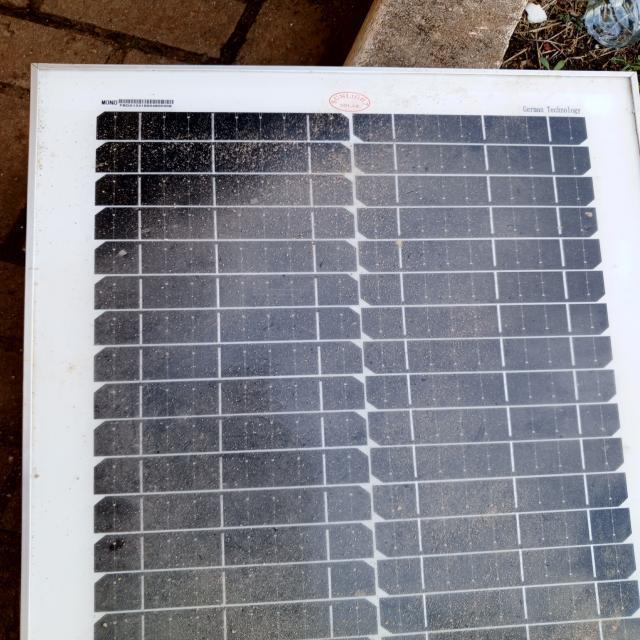Anomaly Solar Panel: (51, 77, 636, 638)
Surface Contaminant: (65, 86, 632, 639)
